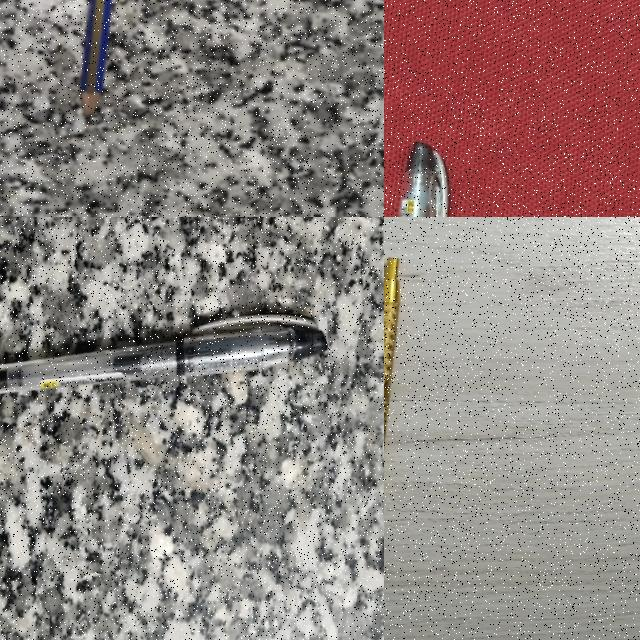pen: (0, 315, 327, 393), (400, 142, 448, 216)
pencil: (80, 0, 110, 116)
signature pen: (384, 258, 399, 442)
